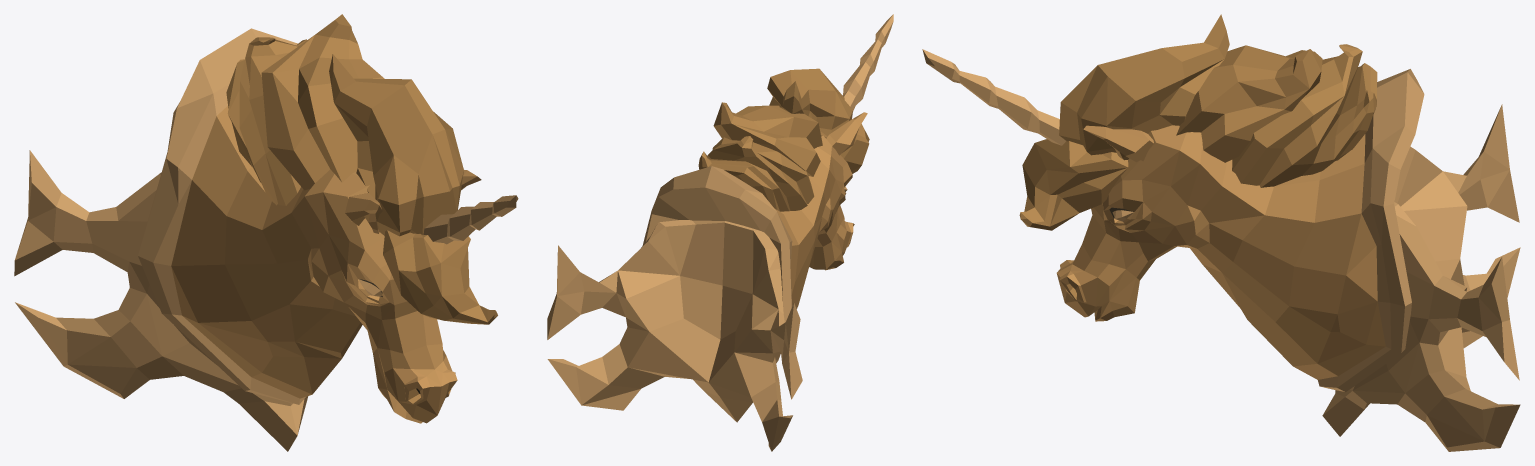
Rendered from SM_Veh_Ship_S_Figurehead_03.fbx.
3 views of the same model, side by side, from view 1: azimuth 30°, elevation 25°; view 2: azimuth 150°, elevation 25°; view 3: azimuth 270°, elevation 25° (orthographic). The views are drawn at different scales.
Parts seen in each view (by area): view 1: SM_Veh_Ship_S_Figurehead_03; view 2: SM_Veh_Ship_S_Figurehead_03; view 3: SM_Veh_Ship_S_Figurehead_03.
Part boxes in pixels (bbox=[...]): SM_Veh_Ship_S_Figurehead_03: bbox=[14, 14, 518, 451]; SM_Veh_Ship_S_Figurehead_03: bbox=[547, 14, 893, 451]; SM_Veh_Ship_S_Figurehead_03: bbox=[922, 14, 1520, 451].
Bounding box in the file's own units: 290 × 339 × 444.
